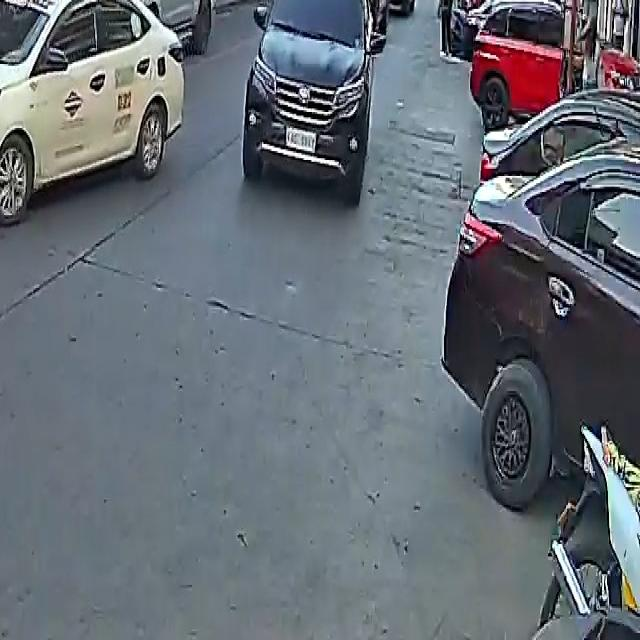car: (442, 62, 640, 534), (0, 0, 186, 226), (242, 0, 378, 196), (465, 0, 574, 124), (85, 0, 219, 59), (330, 0, 417, 20)
